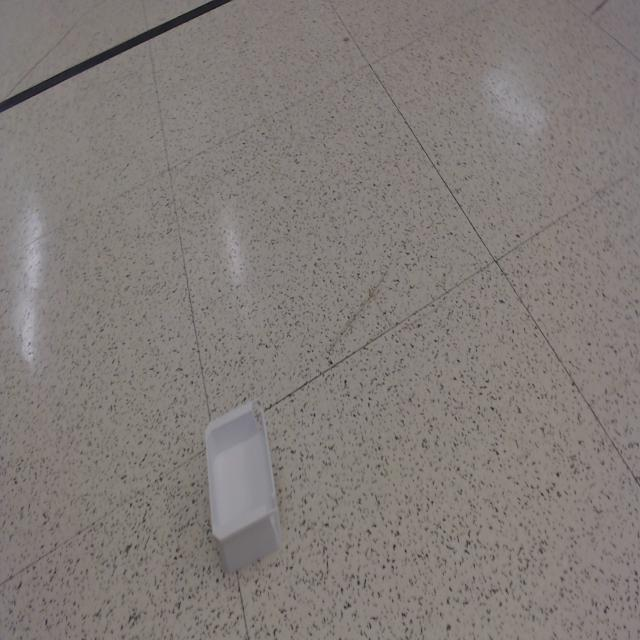wbox: (203, 397, 283, 575)
